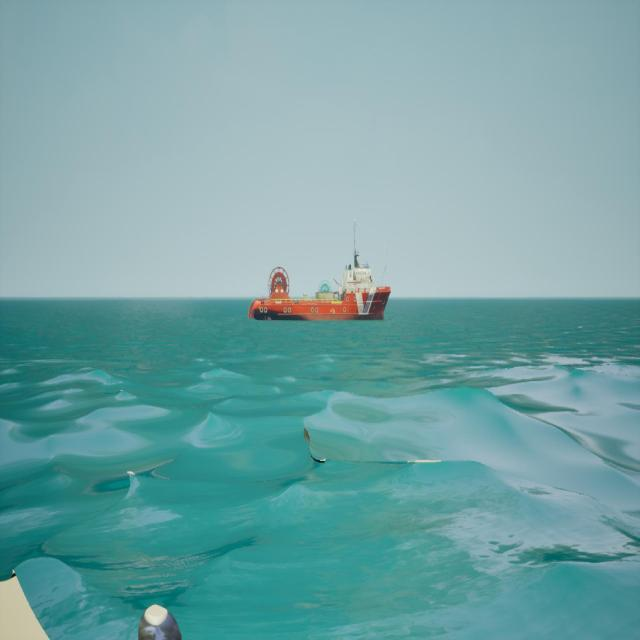tug boat: (249, 221, 393, 324)
